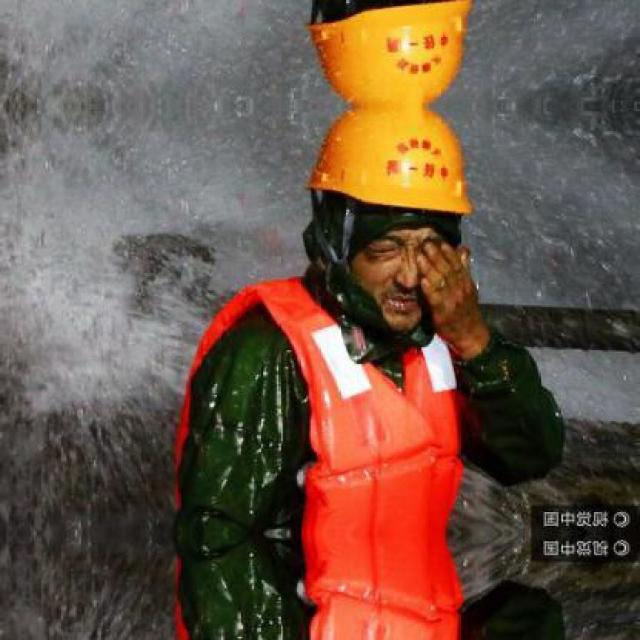Reflective-Jacket: (158, 270, 508, 638)
Safety-Helmet: (290, 103, 488, 233)
